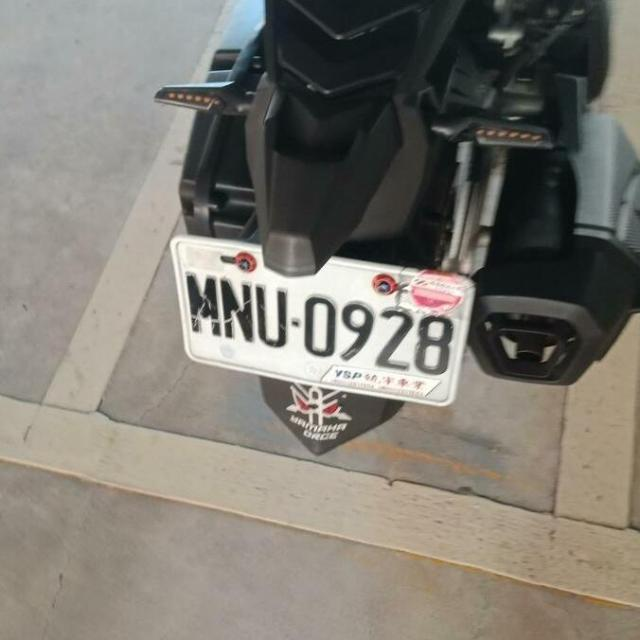W: (155, 223, 481, 413)
